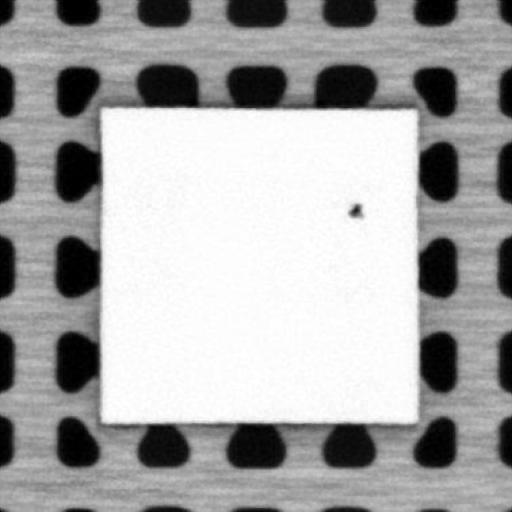DIE_INK: (346, 200, 366, 220)
